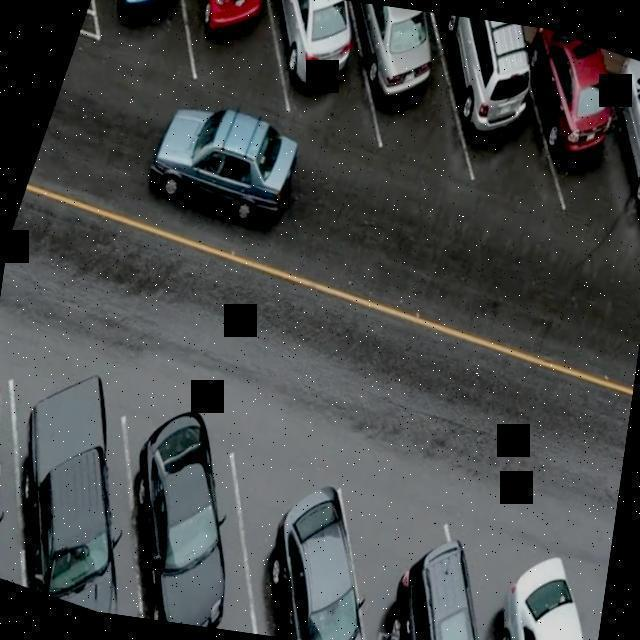space-occupied: (107, 394, 306, 637), (0, 352, 177, 618), (212, 420, 426, 640), (399, 11, 583, 215), (479, 23, 640, 254), (344, 474, 545, 640), (293, 0, 473, 174), (223, 0, 384, 135), (454, 511, 613, 640), (129, 0, 313, 107), (0, 350, 83, 587), (554, 47, 640, 263), (72, 0, 211, 81)
